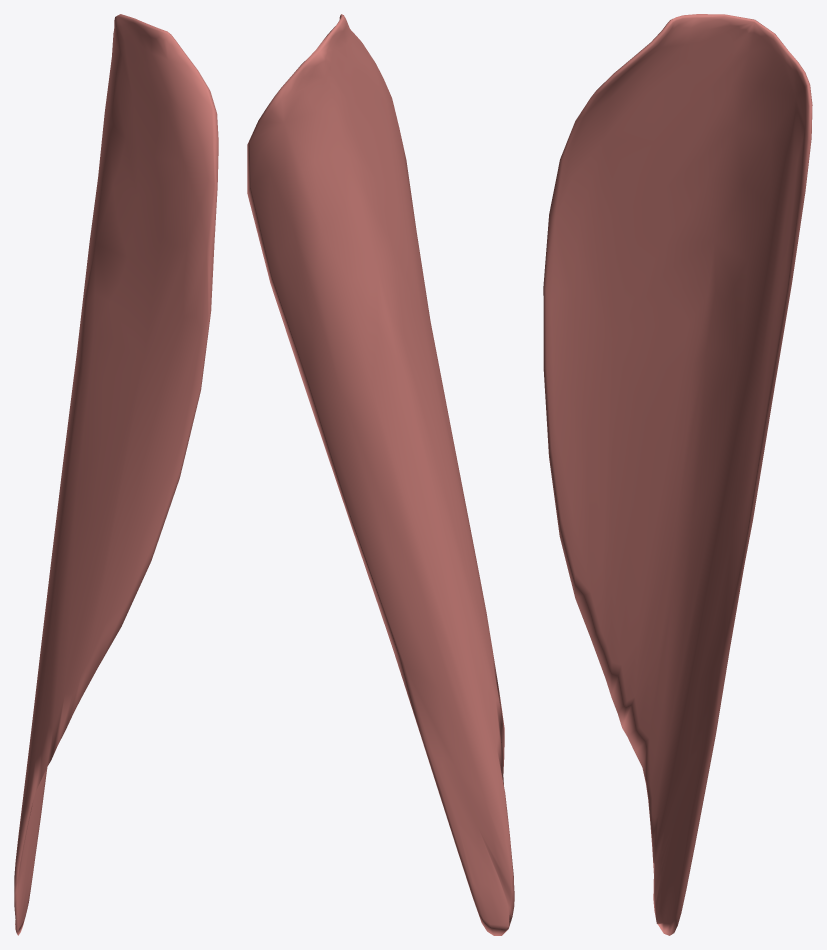
3 renders of one model, left to right at view 1: azimuth 30°, elevation 25°; view 2: azimuth 150°, elevation 25°; view 3: azimuth 270°, elevation 25°, orthographic. The views are drawn at different scales.
Visible parts, largest first — view 1: ZA_207ba4fb101ee9a9; view 2: ZA_207ba4fb101ee9a9; view 3: ZA_207ba4fb101ee9a9.
Boxes of the visible parts, box(x1,y1,x2,y2) form: ZA_207ba4fb101ee9a9: box(14, 14, 218, 935); ZA_207ba4fb101ee9a9: box(247, 14, 514, 935); ZA_207ba4fb101ee9a9: box(543, 14, 812, 935).
Bounding box in the file's own units: 0.0192 × 0.0809 × 0.0197.
